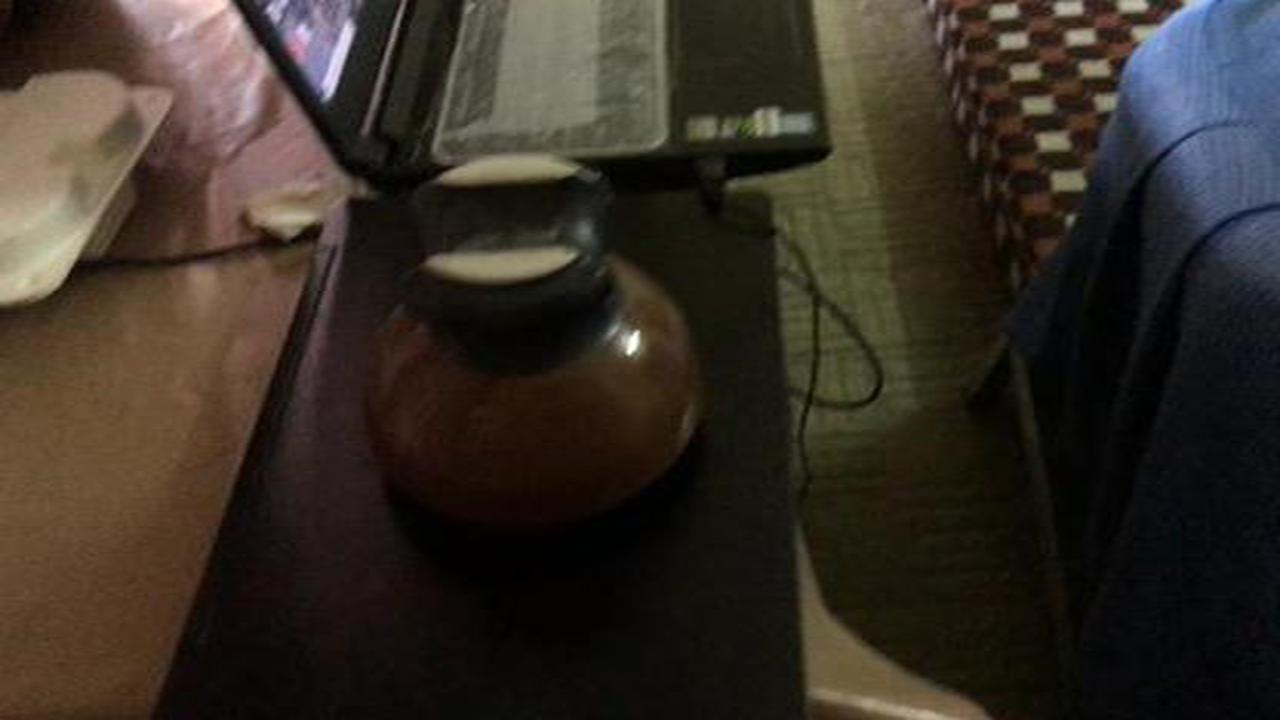insulator_pin: (339, 140, 739, 556)
